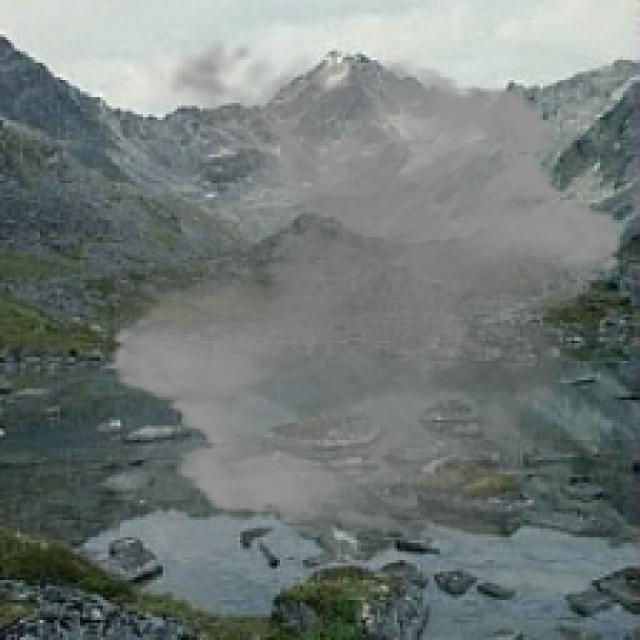smoke: (94, 23, 637, 566)
